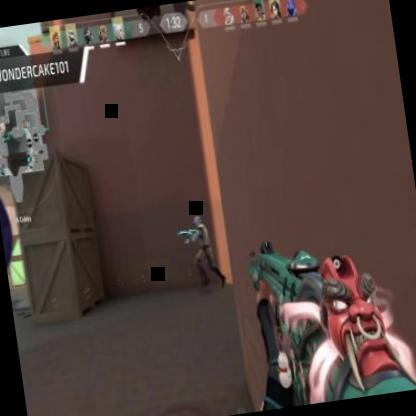enemy: (187, 210, 227, 292)
enemy_head: (192, 216, 200, 228)
